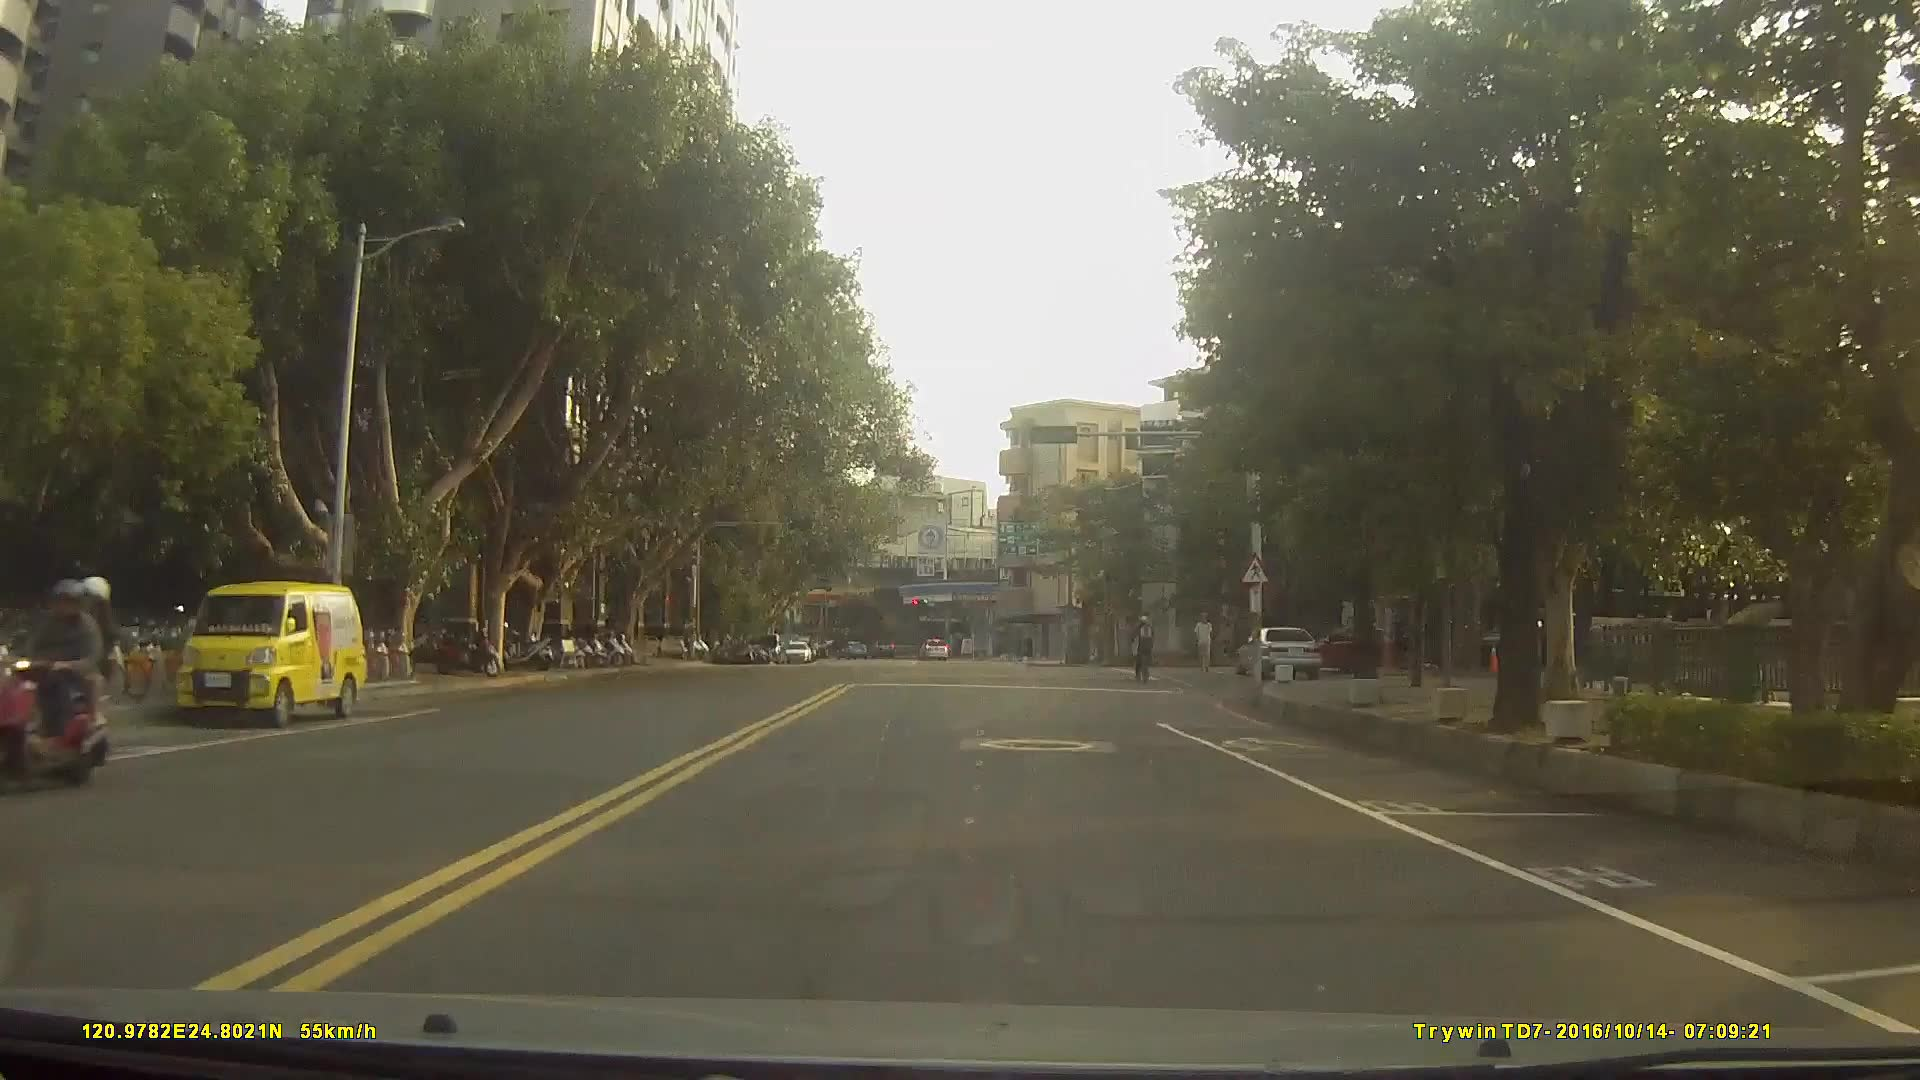pedestrian: (1194, 616, 1219, 683)
rider: (1, 573, 125, 788), (1130, 618, 1158, 683)
vehicle: (1231, 625, 1321, 680), (918, 636, 949, 660), (782, 642, 813, 664)
